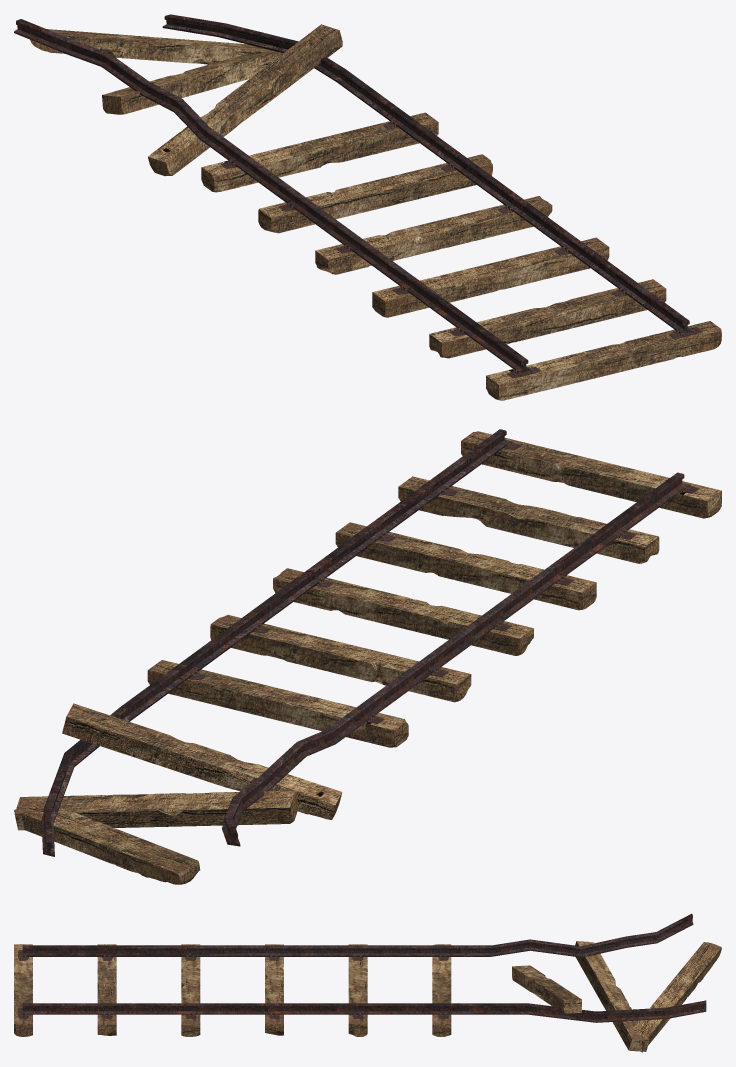
The model's file is Relsy-3.fbx.
The picture shows the model from 3 angles, top to bottom: view 1: azimuth 30°, elevation 25°; view 2: azimuth 150°, elevation 25°; view 3: azimuth 270°, elevation 25°; orthographic projection. The views are drawn at different scales.
Visible parts, largest first — view 1: Cube.037_dmg; view 2: Cube.037_dmg; view 3: Cube.037_dmg.
Part boxes in pixels (bbox=[...]): Cube.037_dmg: bbox=[14, 14, 721, 400]; Cube.037_dmg: bbox=[14, 429, 721, 884]; Cube.037_dmg: bbox=[14, 913, 721, 1052].
Bounding box in the file's own units: 155 × 45.63 × 521.
